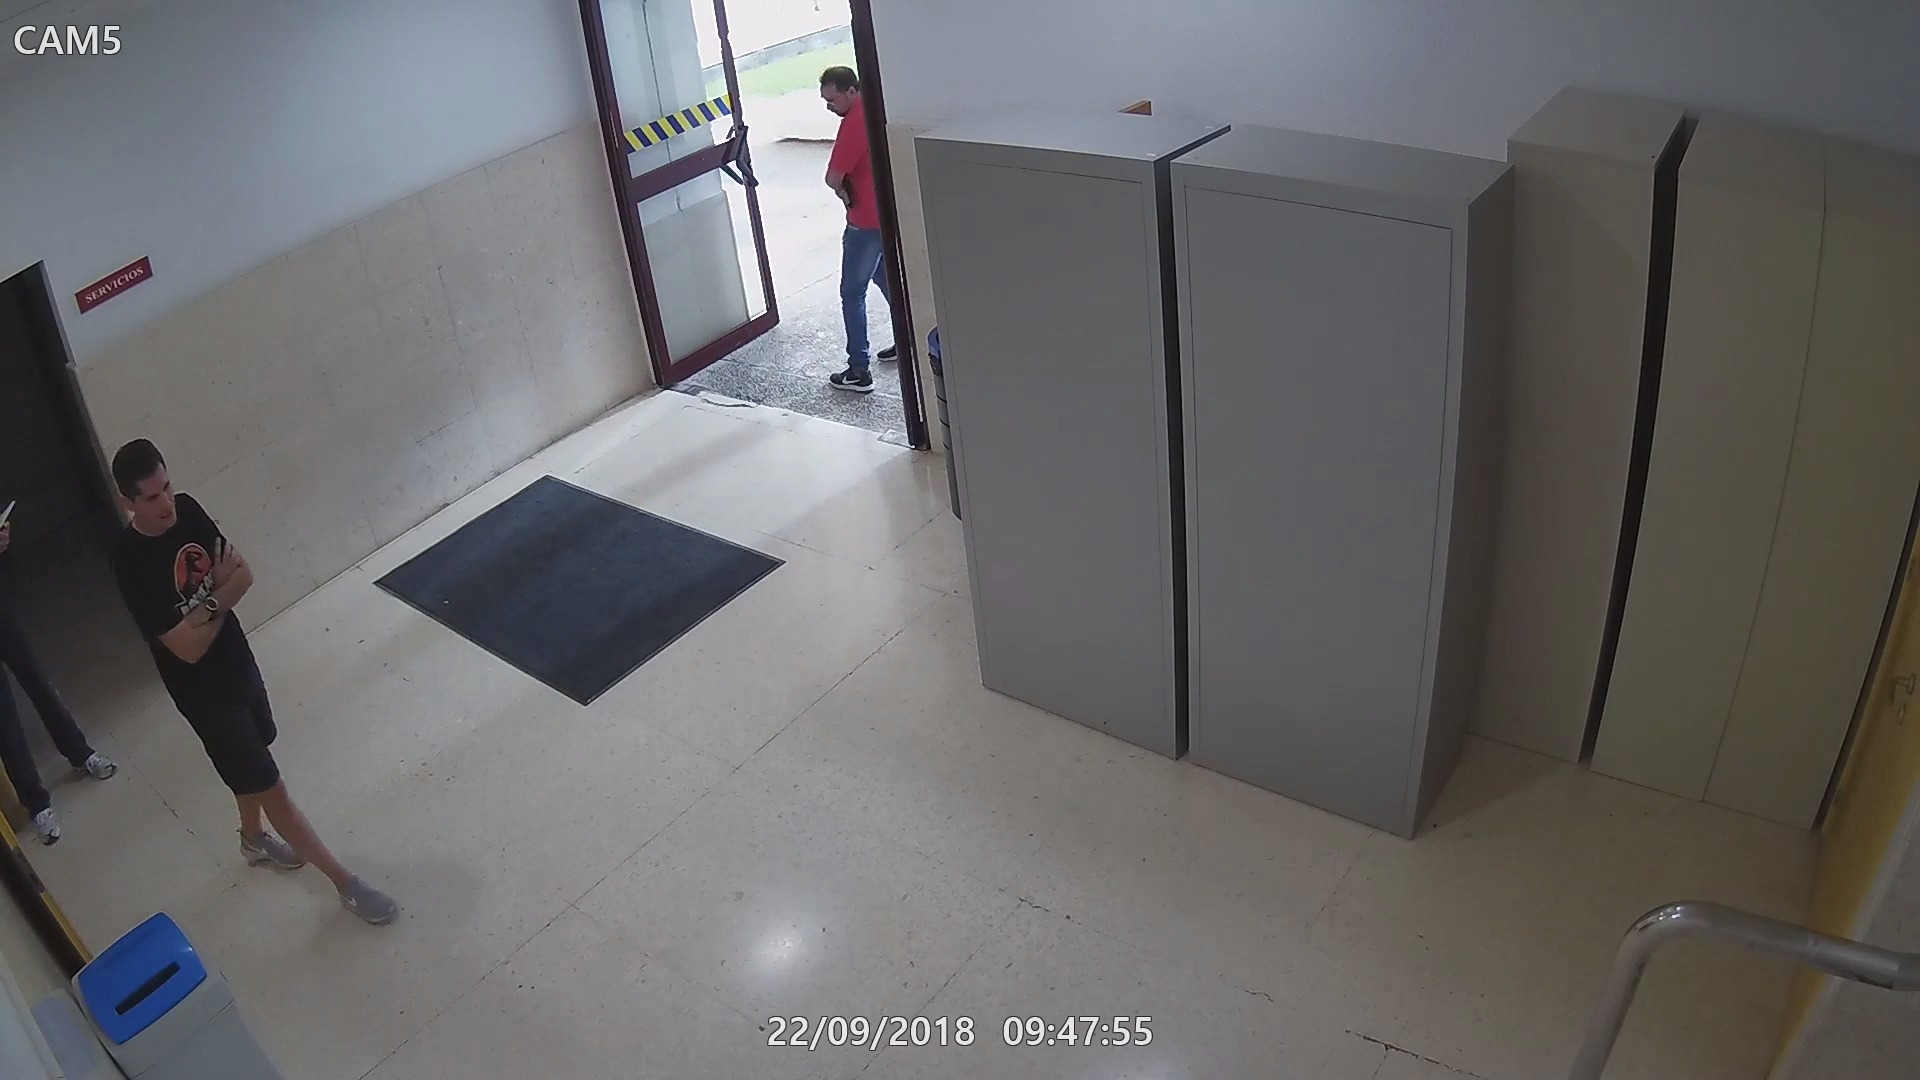Short_rifle: (833, 173, 860, 207)
